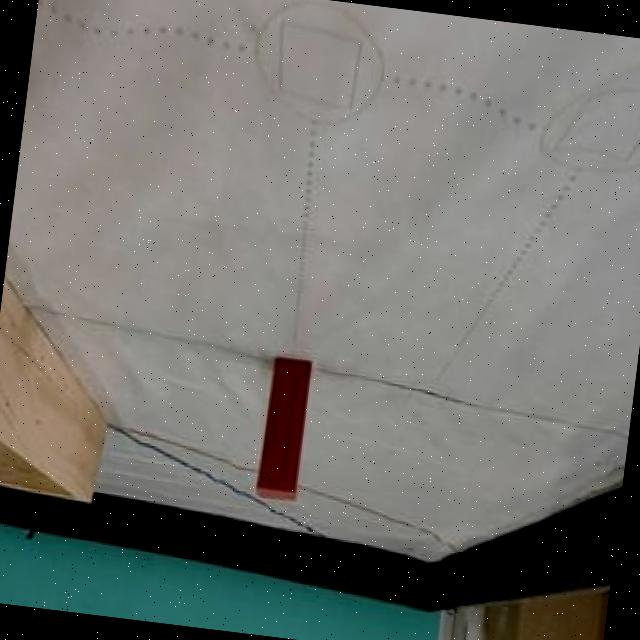redbox: (253, 358, 312, 504)
